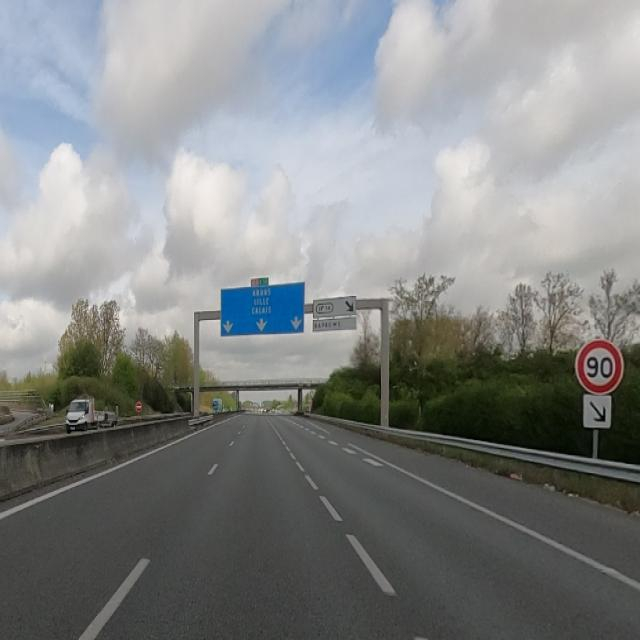speed_90: (576, 340, 622, 393)
